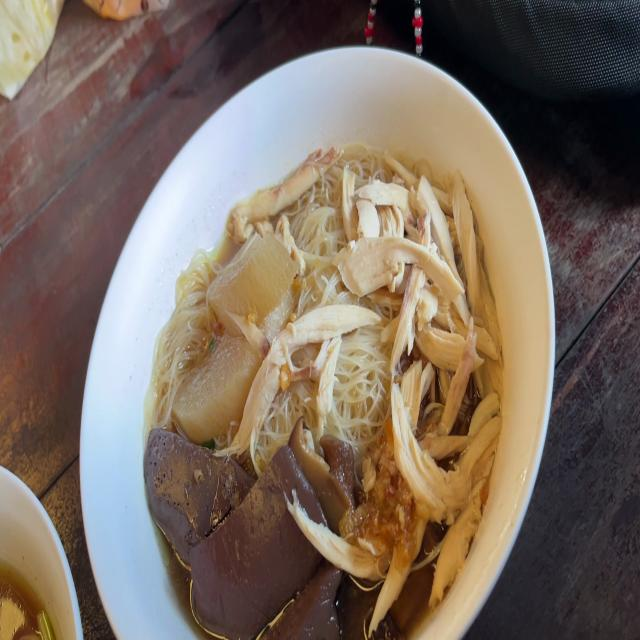noodle: (140, 132, 502, 640), (0, 514, 66, 640)
